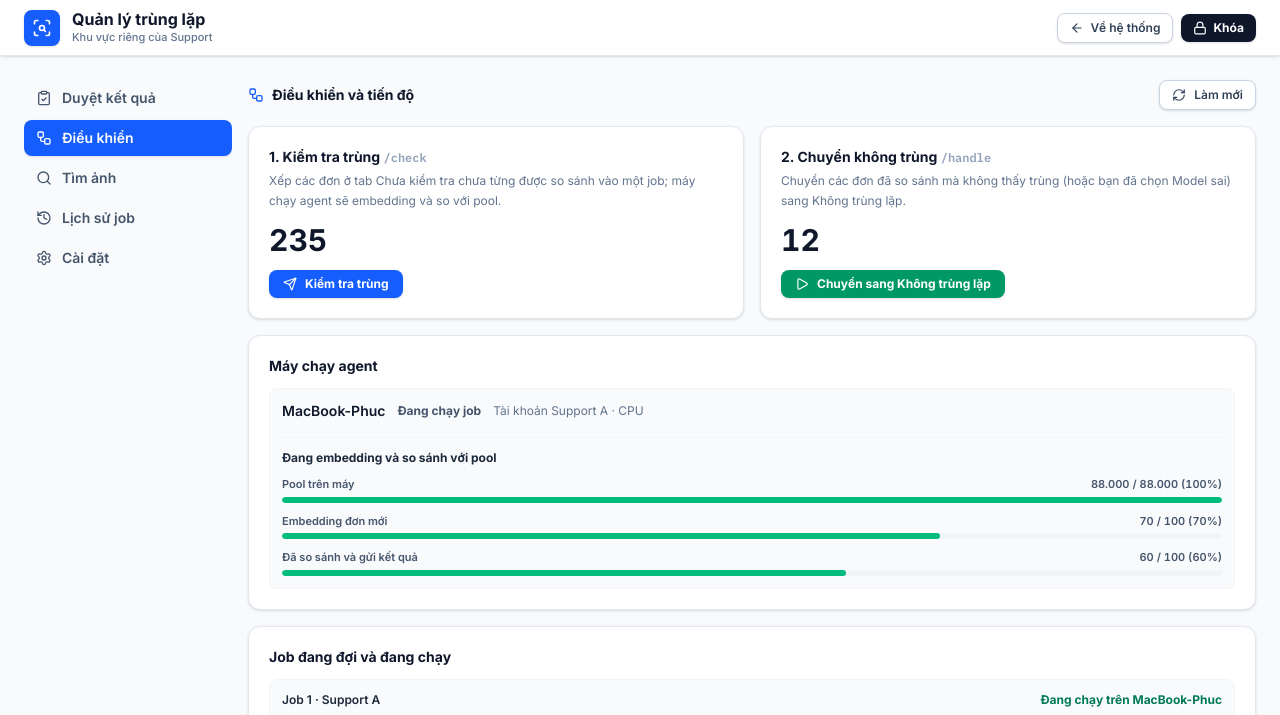
Test case: duplicate review page › runs /check and /handle from the control tab and shows pool loading and comparison progress
Expected: the text with test id "new-orders" reads "235", [269, 222, 327, 258]
Expected: the text with test id "handleable-orders" reads "12", [781, 222, 820, 258]
Click the button "Kiểm tra trùng": (336, 284) [269, 270, 403, 298]
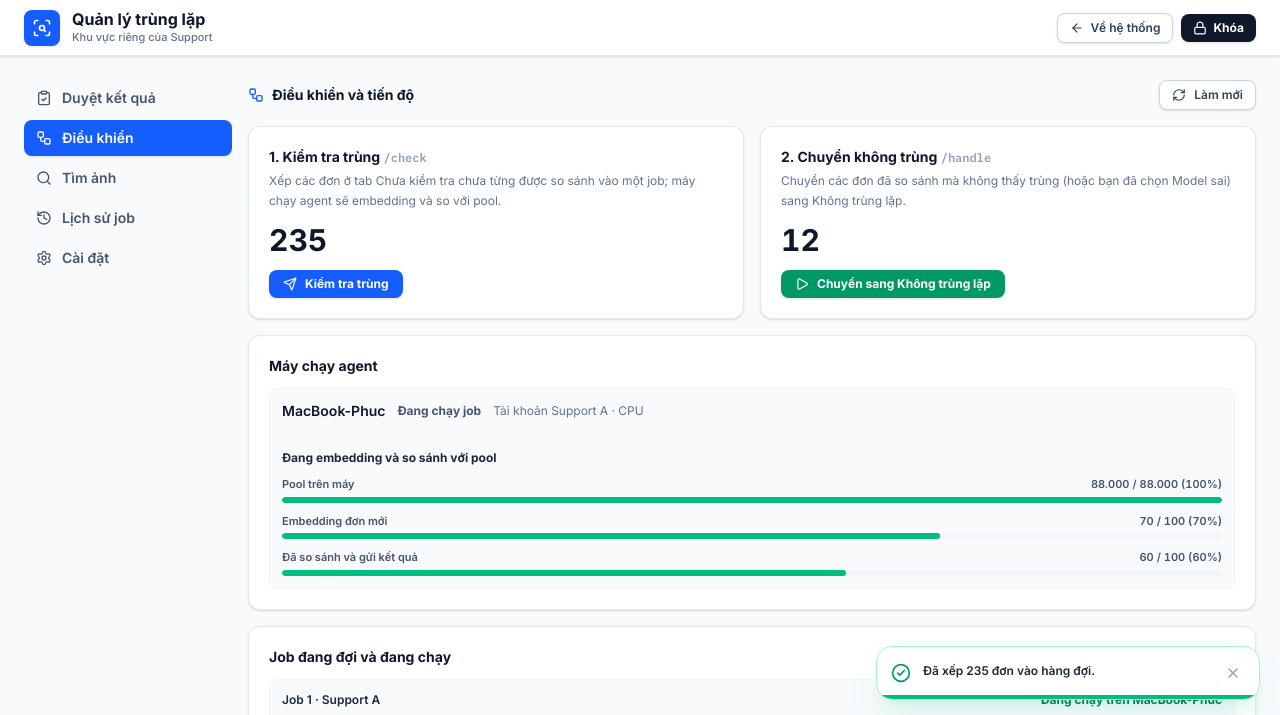
Click the button "Chuyển sang Không trùng lặp": (893, 284) [781, 270, 1005, 298]
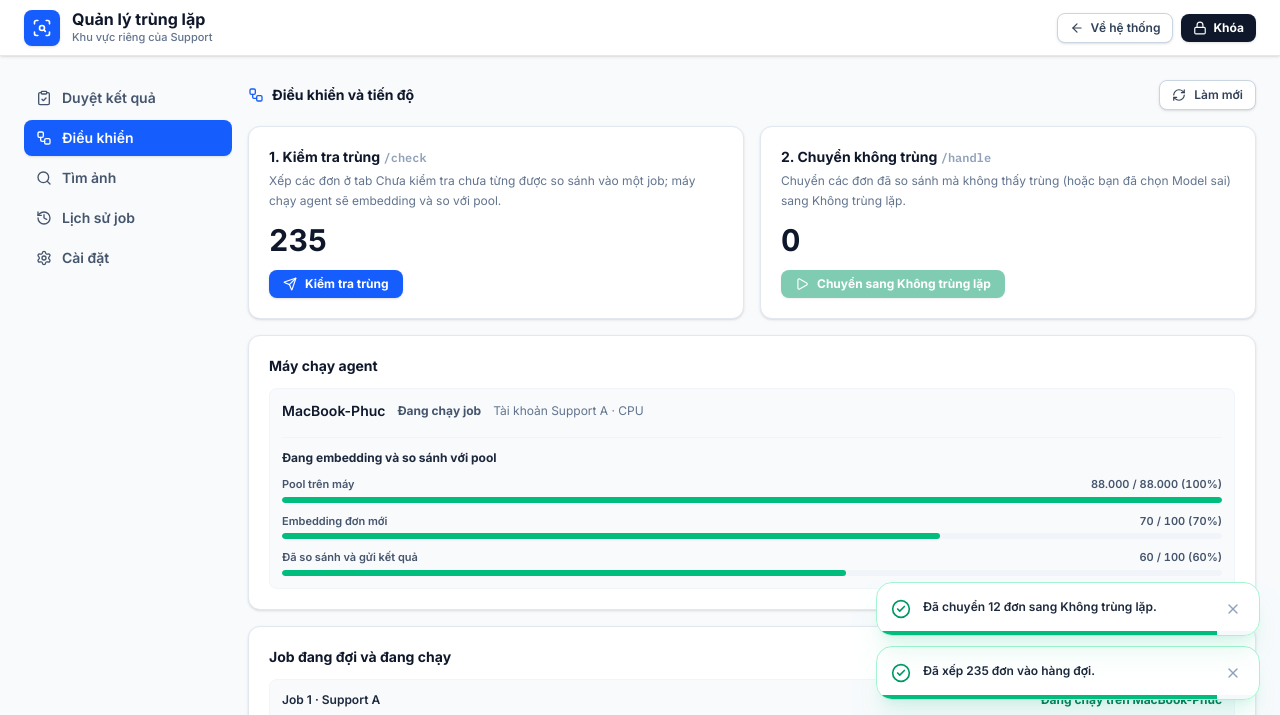
Now the text with test id "handleable-orders" reads "0", box [781, 222, 800, 258]
